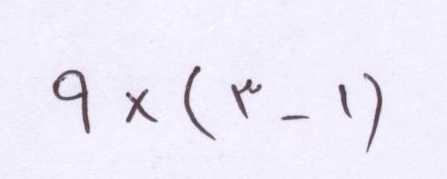character: (53, 70, 95, 139), (184, 65, 216, 147), (125, 89, 163, 139), (363, 72, 381, 158), (231, 79, 265, 124), (338, 84, 357, 121), (281, 115, 313, 131)
